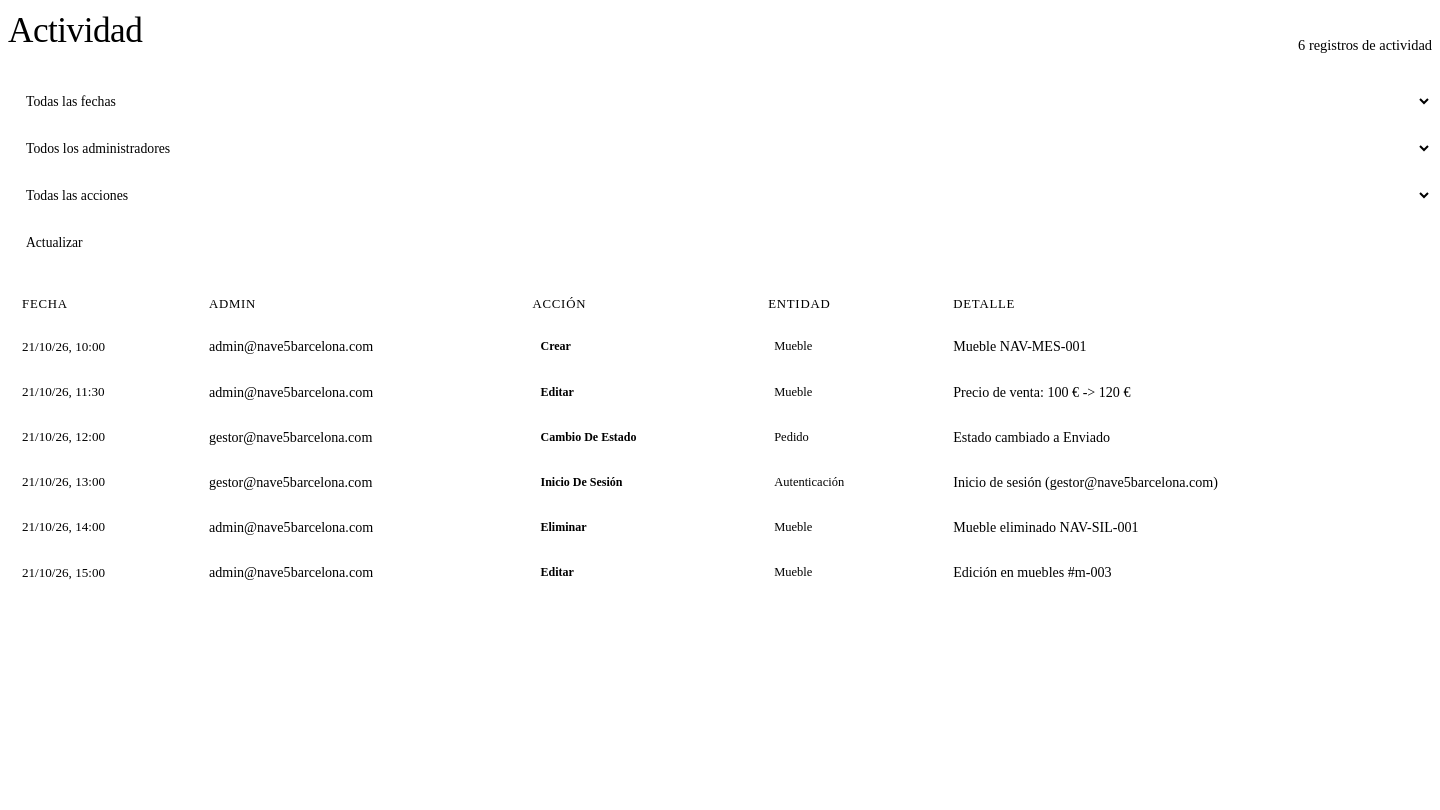
Test: ActividadTab › Filtros › botón Limpiar filtros restablece todos los filtros
Check: the text "Precio de venta: 100 € -> 120 €" is shown, box top-left (939, 370), bottom-right (1432, 415)
Select "Editar" in the dropdown named "Filtrar por acción" at (720, 195), box top-left (8, 178), bottom-right (1432, 213)
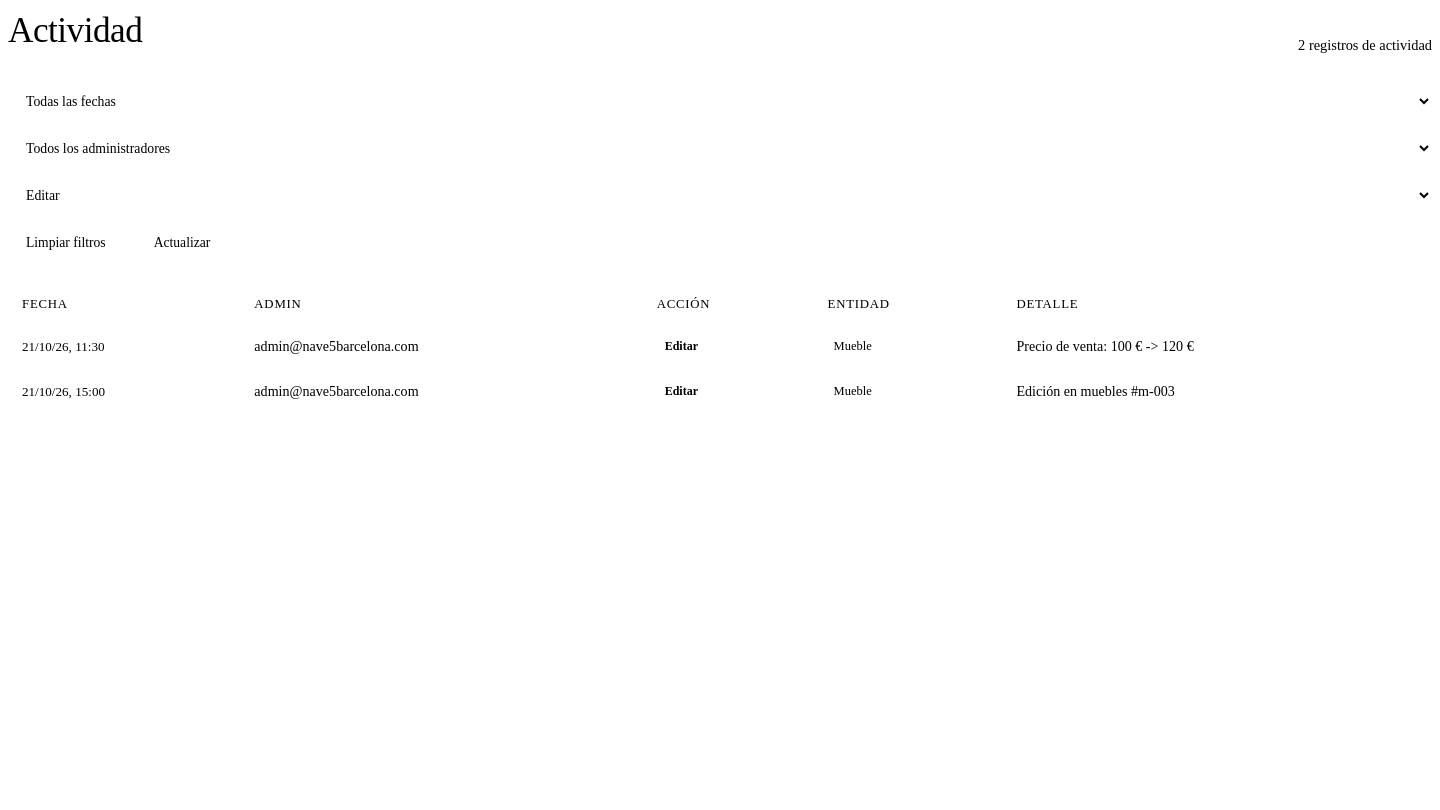
Click the button "Limpiar filtros" at (66, 243), box top-left (8, 225), bottom-right (124, 261)
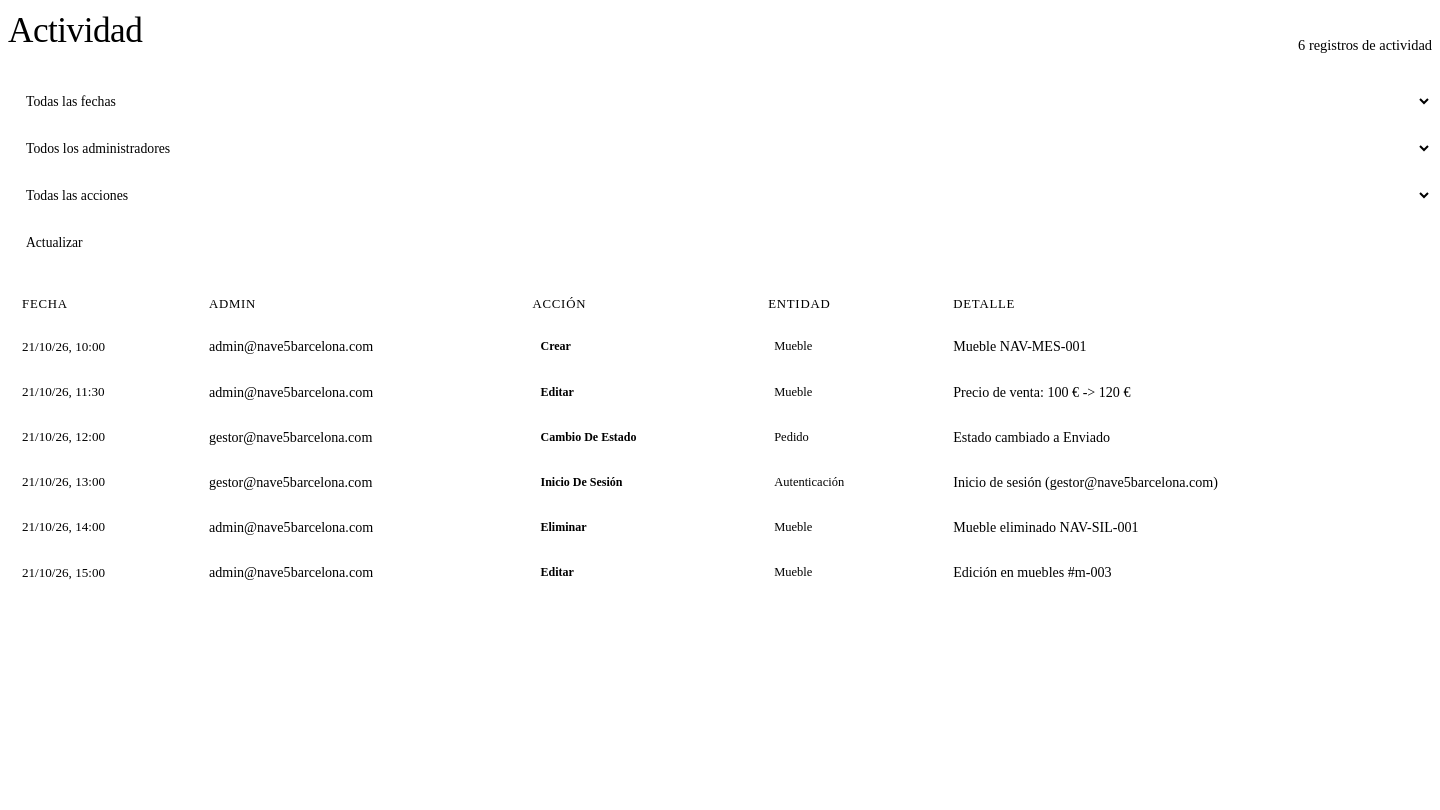
Check: the text "Precio de venta: 100 € -> 120 €" is shown, box top-left (939, 370), bottom-right (1432, 415)
Check: the text "Estado cambiado a Enviado" is shown, box top-left (939, 415), bottom-right (1432, 460)
